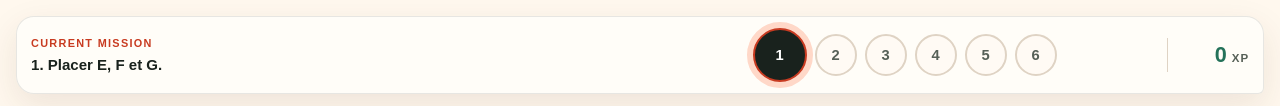
Scenario: GeneralExerciseWorkspace mission rail › lets the learner inspect another mission without claiming it is verified
Click the button named "Mission 4:" at x=936, y=55, box x1=914 y1=34 x2=956 y2=76
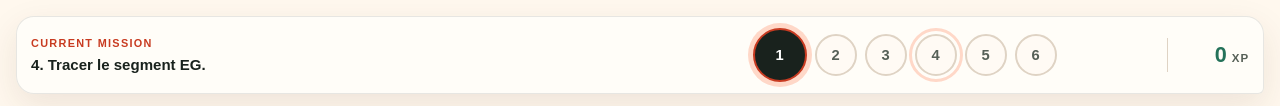
Check: the element named "Exercise XP" reads "0 XP", box x1=1167 y1=38 x2=1249 y2=72
Check: the text "4. Tracer le segment EG." is shown, box x1=31 y1=56 x2=206 y2=73
